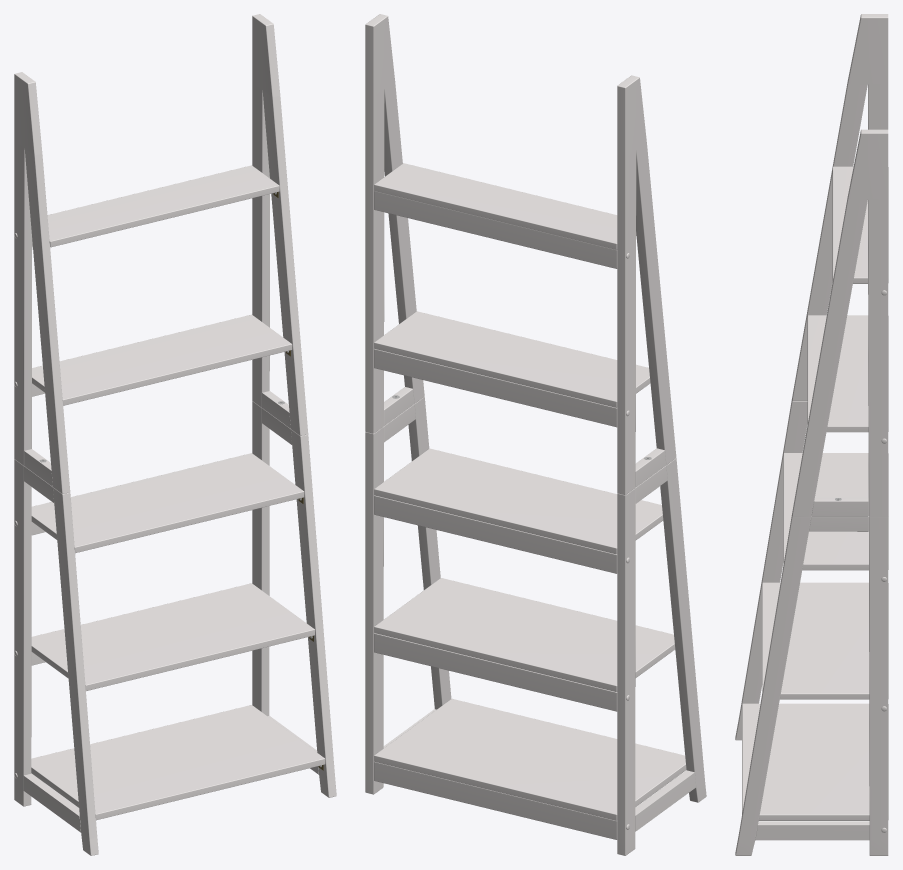
The model's file is bookshelf_B07PPNNCM2.glb.
3 renders of one model, left to right at view 1: azimuth 30°, elevation 25°; view 2: azimuth 150°, elevation 25°; view 3: azimuth 270°, elevation 25°, orthographic. The views are drawn at different scales.
Visible parts, largest first — view 1: RootNode; view 2: RootNode; view 3: RootNode.
Part boxes in pixels (x1=…): RootNode: x1=14, y1=14, x2=336, y2=855; RootNode: x1=365, y1=14, x2=706, y2=855; RootNode: x1=735, y1=14, x2=888, y2=855.
Size of the model in its own units: 0.636 by 1.78 by 0.3413.
Materials: 1 (1 with a texture image).
